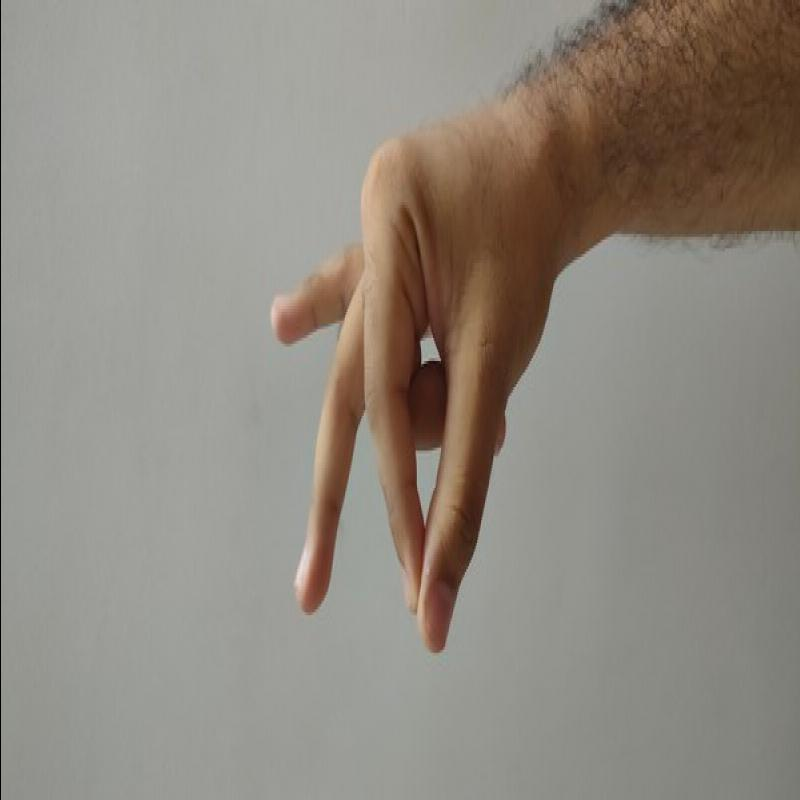Katakam: (248, 86, 568, 686)
